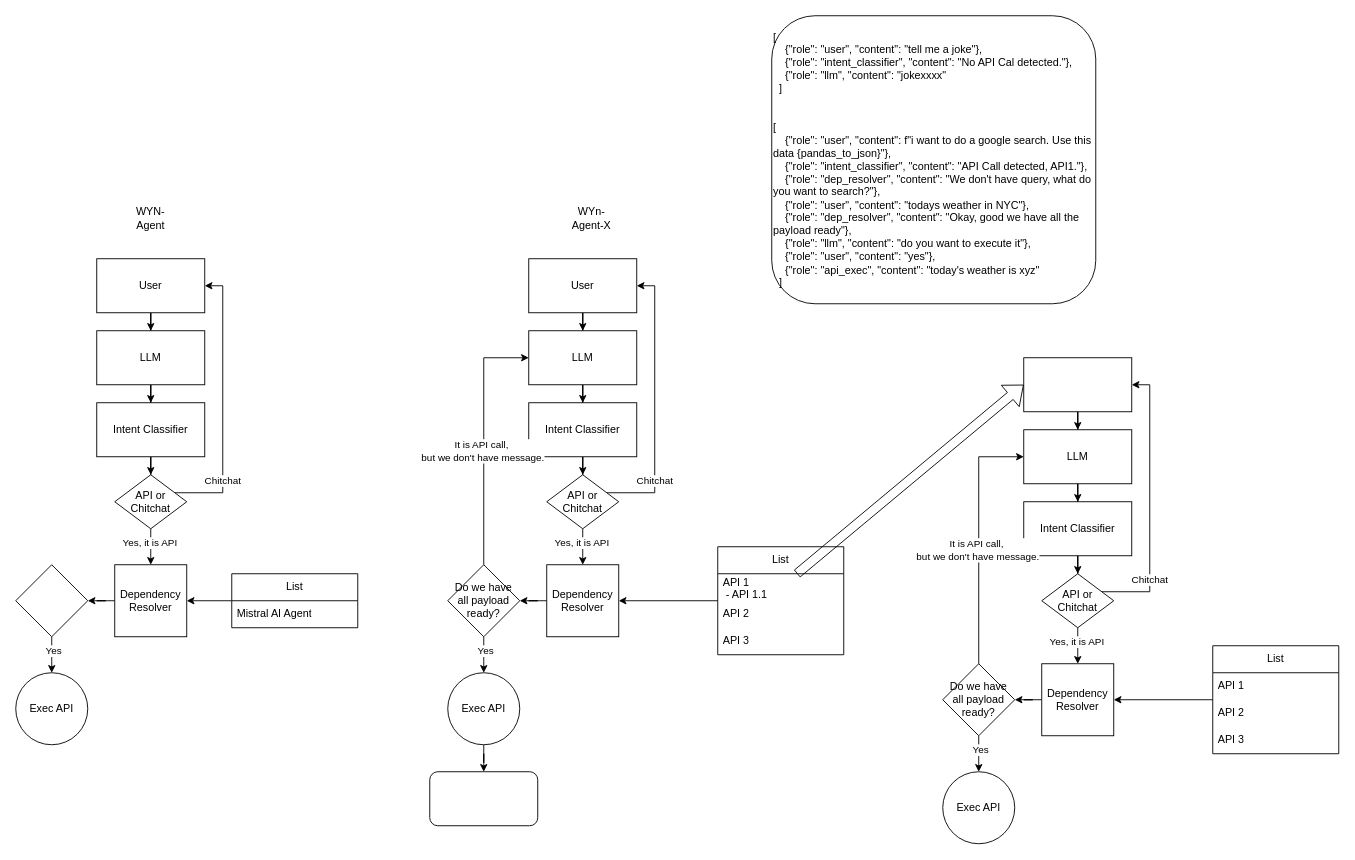
The diagram is 1355 pixels wide and 860 high, and some of its shapes have lost their labels. Here are the shapes that lost their labels. From the top down, the centre of each, then its label:
At point (1077, 384): "API".
At point (51, 600): "```python exist?".
At point (483, 798): "PDF/Table/PNG/...".
